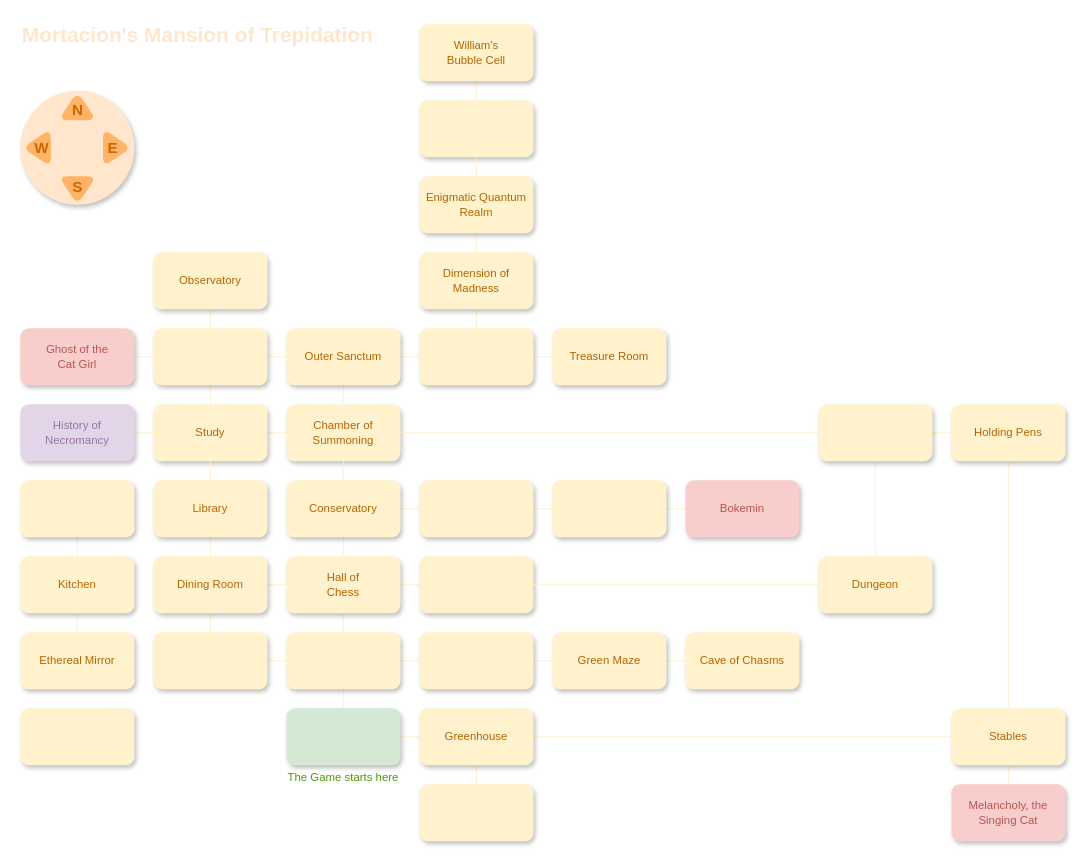
Some shapes in this 1087 by 864 pixel diagram are drawn without their labels. Each missing label, with the centre of its shape:
"Bedroom Oak" goes at (x=610, y=509).
"Cloud Room" goes at (x=477, y=585).
"Front of Mansion" goes at (x=344, y=737).
"Gambling Room" goes at (x=211, y=661).
"Grand Entrance Hall" goes at (x=344, y=661).
"Infirmary" goes at (x=876, y=433).
"Inner Sanctum" goes at (x=477, y=357).
"Inside the Greenhouse" goes at (x=477, y=813).
"Laboratory" goes at (x=211, y=357).
"Lost in the Wastelands" goes at (x=78, y=737).
"Mortacion's Altar Room" goes at (x=477, y=129).
"Plant Atrium" goes at (x=477, y=661).
"Servants' Quarters" goes at (x=78, y=509).
"Sleeping Chamber" goes at (x=477, y=509).
